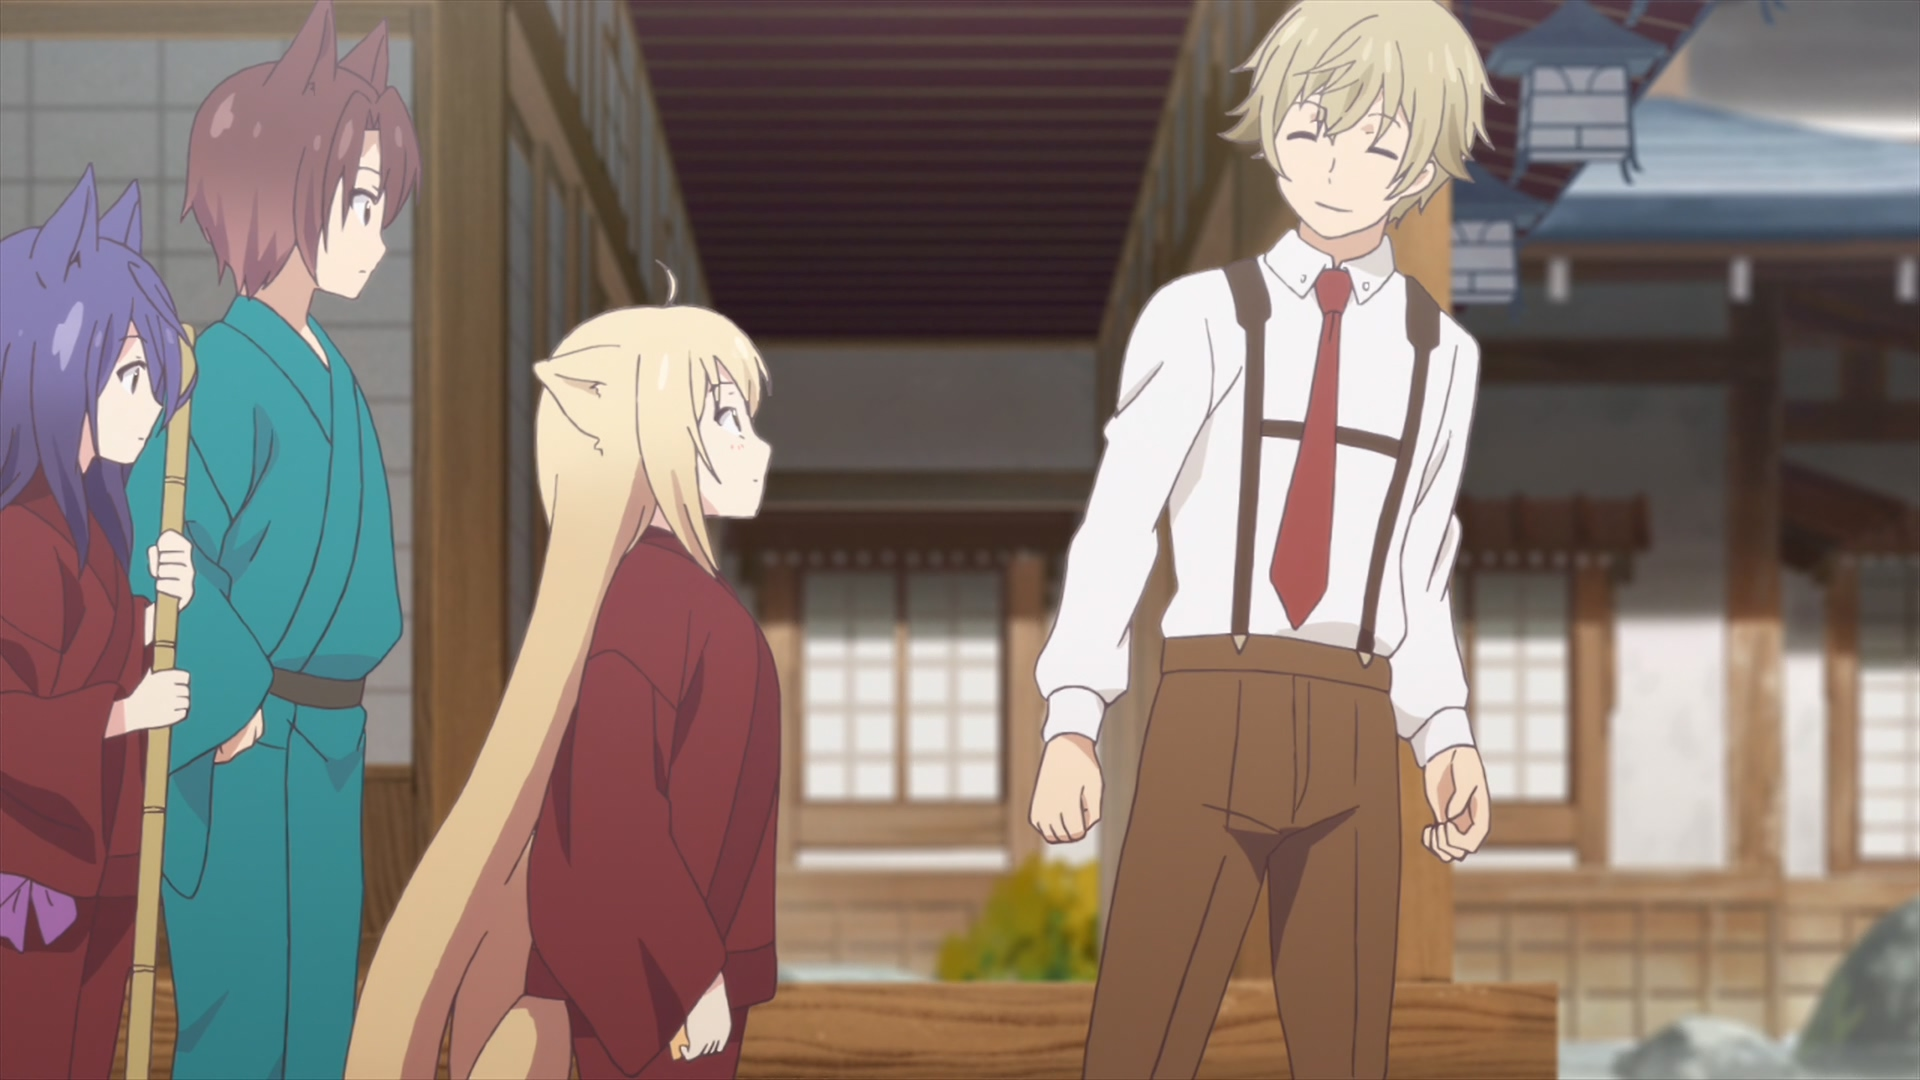其他: (1029, 1, 1518, 1080)
枣: (124, 1, 422, 1080)
柚: (343, 257, 782, 1080)
皋: (1, 165, 200, 1080)
